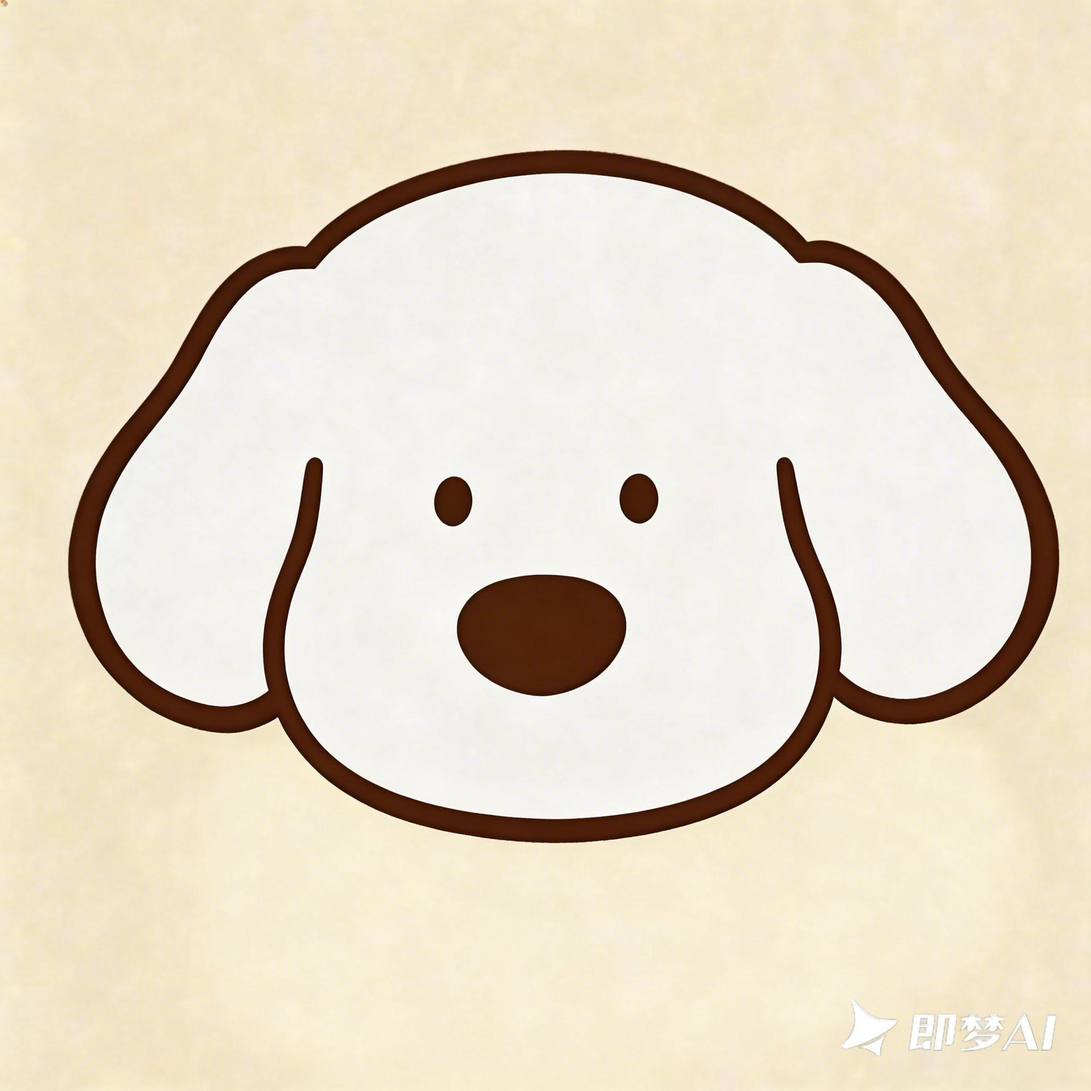non-dog: (67, 149, 1060, 845)
